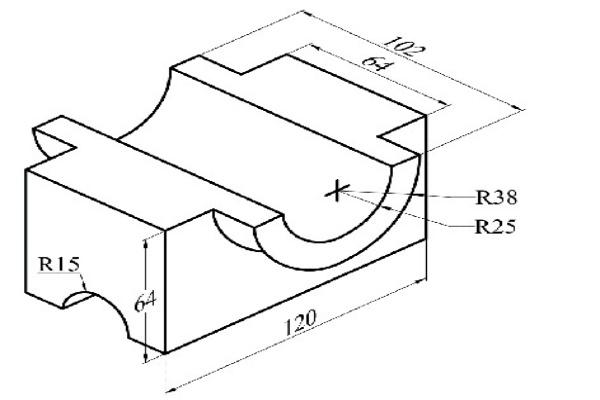dimensions: (469, 211, 525, 242), (281, 303, 325, 339), (382, 28, 433, 59), (473, 182, 522, 209), (36, 249, 81, 273), (361, 49, 395, 75), (131, 288, 159, 315)
